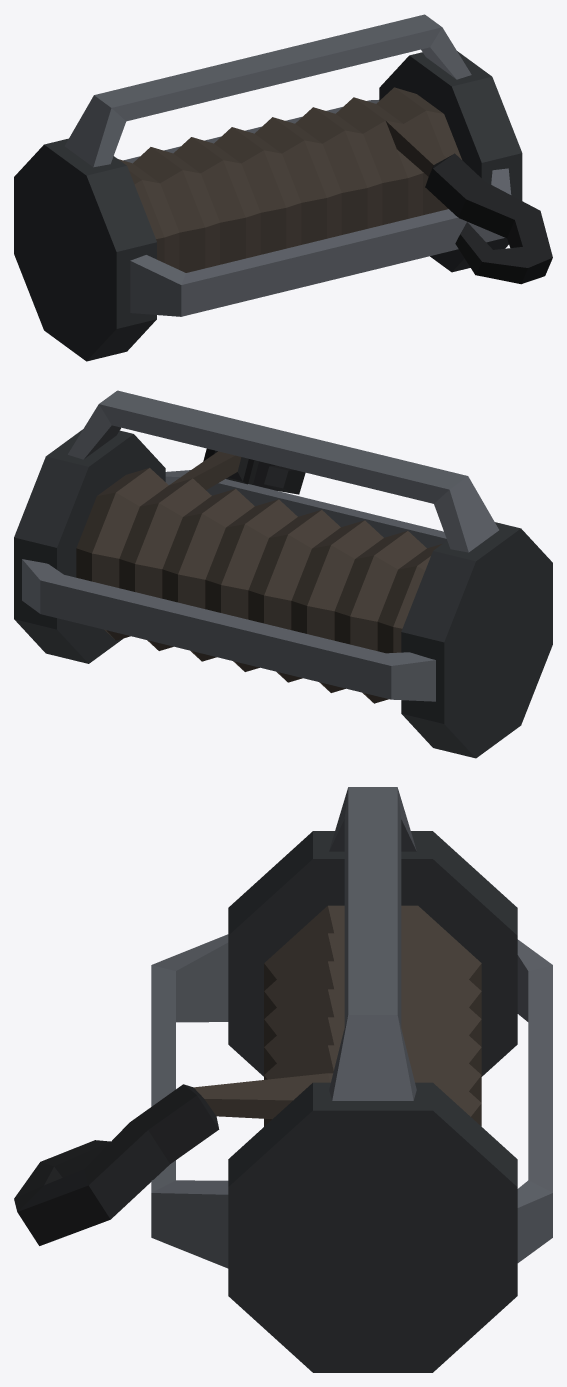
Rendered from SM_Veh_Attach_Winch_01.fbx.
The picture shows the model from 3 angles, top to bottom: view 1: azimuth 30°, elevation 25°; view 2: azimuth 150°, elevation 25°; view 3: azimuth 270°, elevation 25°; orthographic projection. The views are drawn at different scales.
Visible parts, largest first — view 1: SM_Veh_Attach_Winch_01; view 2: SM_Veh_Attach_Winch_01; view 3: SM_Veh_Attach_Winch_01.
Boxes of the visible parts, <box> form: SM_Veh_Attach_Winch_01: <box>14,14,552,361</box>; SM_Veh_Attach_Winch_01: <box>14,390,552,758</box>; SM_Veh_Attach_Winch_01: <box>14,787,552,1372</box>.
Bounding box in the file's own units: 60.56 × 33.55 × 49.36.
